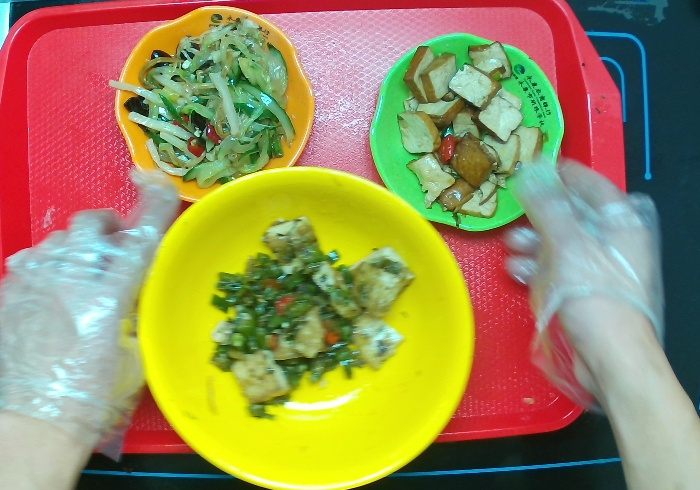YKMZ-Huang_Se_Tang_Wan: (135, 165, 477, 490)
YKMZ-Ju_Se_Ao_Bian_Wan: (113, 5, 319, 206)
YKMZ-Lv_Se_Ao_Bian_Wan: (368, 33, 567, 236)
